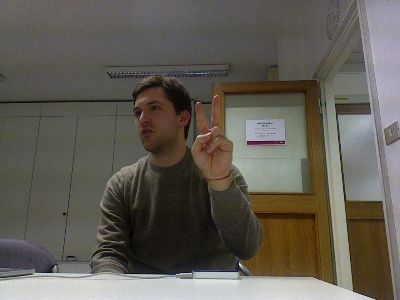剪刀: (189, 95, 233, 176)
